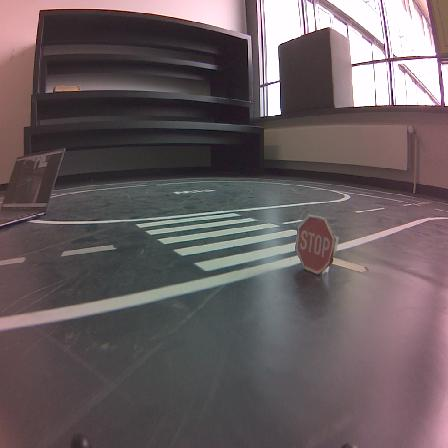STOP: (296, 215, 336, 273)
